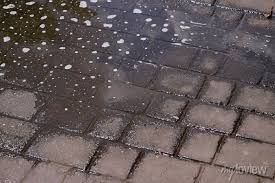Wet-floor: (1, 0, 274, 148)
